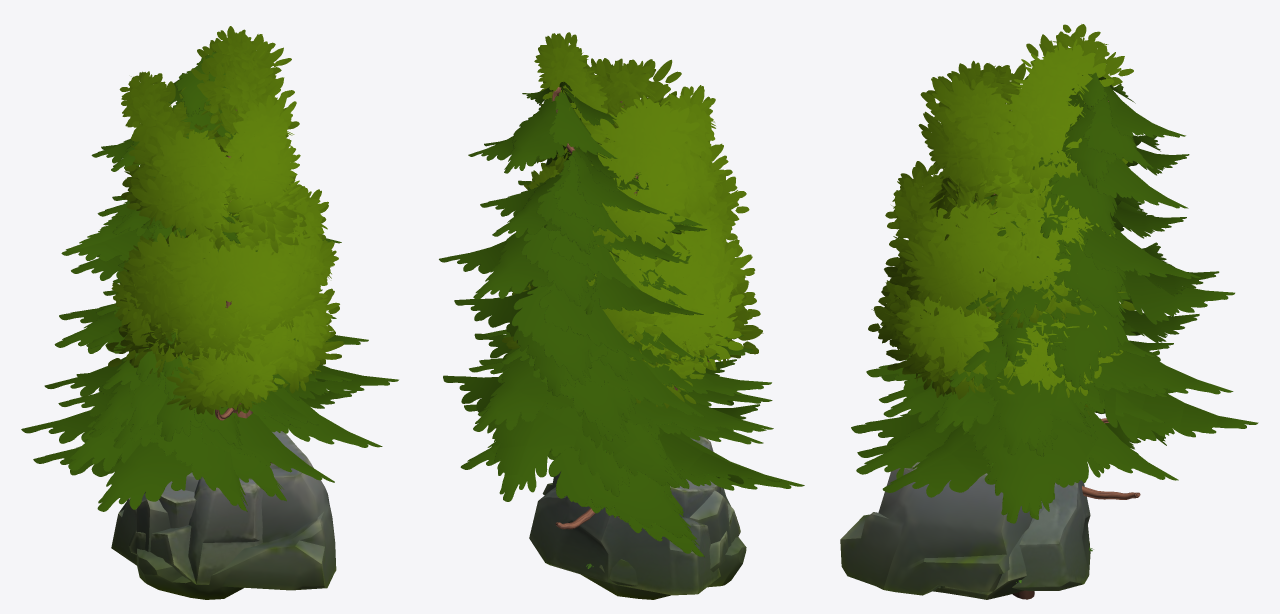
File: nature.glb
The picture shows the model from 3 angles, left to right: view 1: azimuth 30°, elevation 25°; view 2: azimuth 150°, elevation 25°; view 3: azimuth 270°, elevation 25°; orthographic projection. The views are drawn at different scales.
Visible parts, largest first — view 1: CommonTree_3_part, Pine_5_part, CommonTree_1_part, Pine_2_part, Rock_Medium_3_part, CommonTree_2_part, Rock_Medium_1_part, Pine_1_part, Rock_Medium_2_part; view 2: Pine_5_part, CommonTree_3_part, Rock_Medium_2_part, CommonTree_1_part, Pine_2_part, CommonTree_2_part, Pine_1_part, Rock_Medium_1_part, Rock_Medium_3_part; view 3: Pine_5_part, CommonTree_3_part, Rock_Medium_3_part, CommonTree_2_part, Pine_2_part, CommonTree_1_part, Rock_Medium_2_part, Pine_1_part, Rock_Medium_1_part.
Part boxes in pixels (<box>): CommonTree_3_part: <box>119,26,338,367</box>; Pine_5_part: <box>21,51,398,501</box>; CommonTree_1_part: <box>106,182,344,414</box>; Pine_2_part: <box>33,215,356,511</box>; Rock_Medium_3_part: <box>137,431,336,599</box>; CommonTree_2_part: <box>111,145,339,420</box>; Rock_Medium_1_part: <box>128,477,263,584</box>; Pine_1_part: <box>58,201,333,463</box>; Rock_Medium_2_part: <box>111,481,196,565</box>; Pine_5_part: <box>439,82,782,539</box>; CommonTree_3_part: <box>534,32,749,370</box>; Rock_Medium_2_part: <box>529,479,720,595</box>; CommonTree_1_part: <box>549,166,763,408</box>; Pine_2_part: <box>460,222,804,557</box>; CommonTree_2_part: <box>502,124,760,390</box>; Pine_1_part: <box>478,212,773,529</box>; Rock_Medium_1_part: <box>554,436,740,599</box>; Rock_Medium_3_part: <box>542,471,746,587</box>; Pine_5_part: <box>857,72,1258,523</box>; CommonTree_3_part: <box>882,24,1133,596</box>; Rock_Medium_3_part: <box>840,462,1032,595</box>; CommonTree_2_part: <box>868,132,1123,599</box>; Pine_2_part: <box>851,229,1178,519</box>; CommonTree_1_part: <box>878,173,1135,414</box>; Rock_Medium_2_part: <box>1012,480,1090,590</box>; Pine_1_part: <box>881,213,1173,499</box>; Rock_Medium_1_part: <box>933,501,1089,599</box>.
Size of the model in its own units: 6.42 by 9.5 by 6.36.
20 materials, 20 textured.
